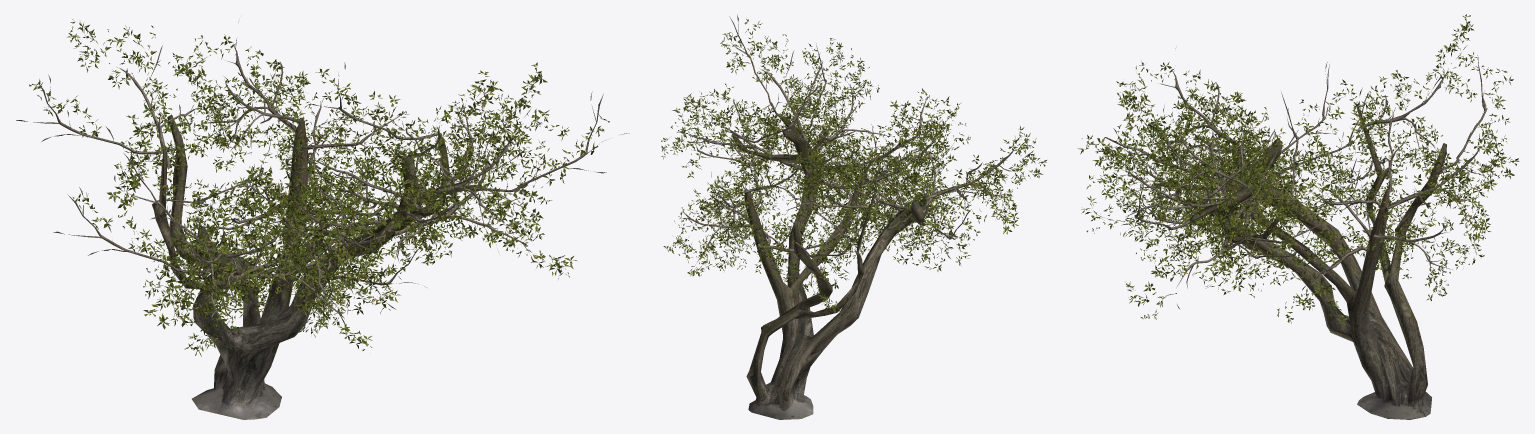
File: tree_a.glb
The picture shows the model from 3 angles, left to right: view 1: azimuth 30°, elevation 25°; view 2: azimuth 150°, elevation 25°; view 3: azimuth 270°, elevation 25°; orthographic projection. The views are drawn at different scales.
Visible parts, largest first — view 1: island_tree_02_LOD0; view 2: island_tree_02_LOD0; view 3: island_tree_02_LOD0.
Part boxes in pixels (left/top/right/bottom): island_tree_02_LOD0: left=16, top=19, right=629, bottom=419; island_tree_02_LOD0: left=661, top=14, right=1046, bottom=419; island_tree_02_LOD0: left=1077, top=14, right=1519, bottom=419.
Size of the model in its own units: 4.21 by 3.4 by 4.07.
3 materials, 3 textured.
